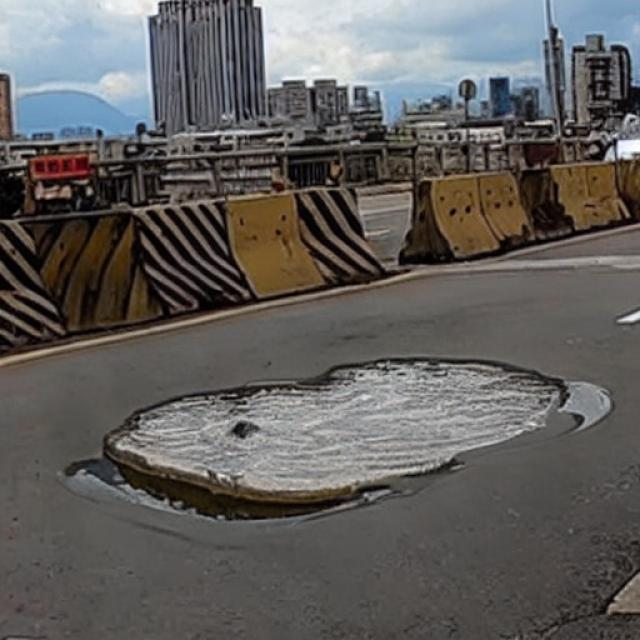puddle: (73, 360, 611, 517)
